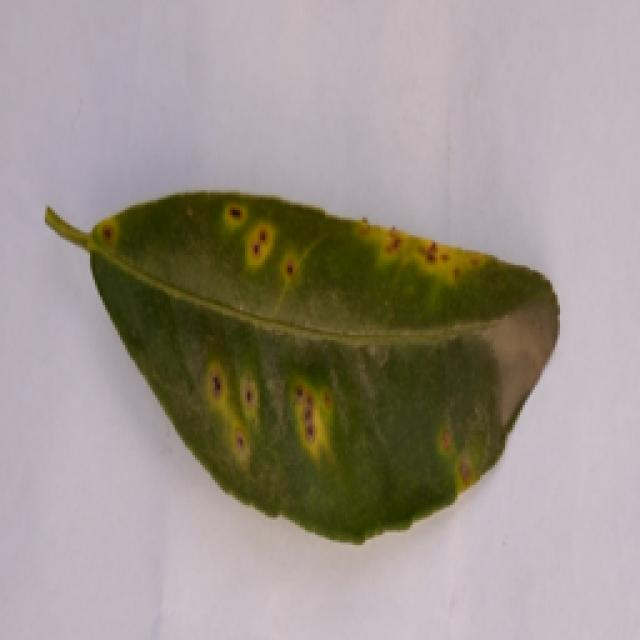canker: (86, 187, 560, 539)
